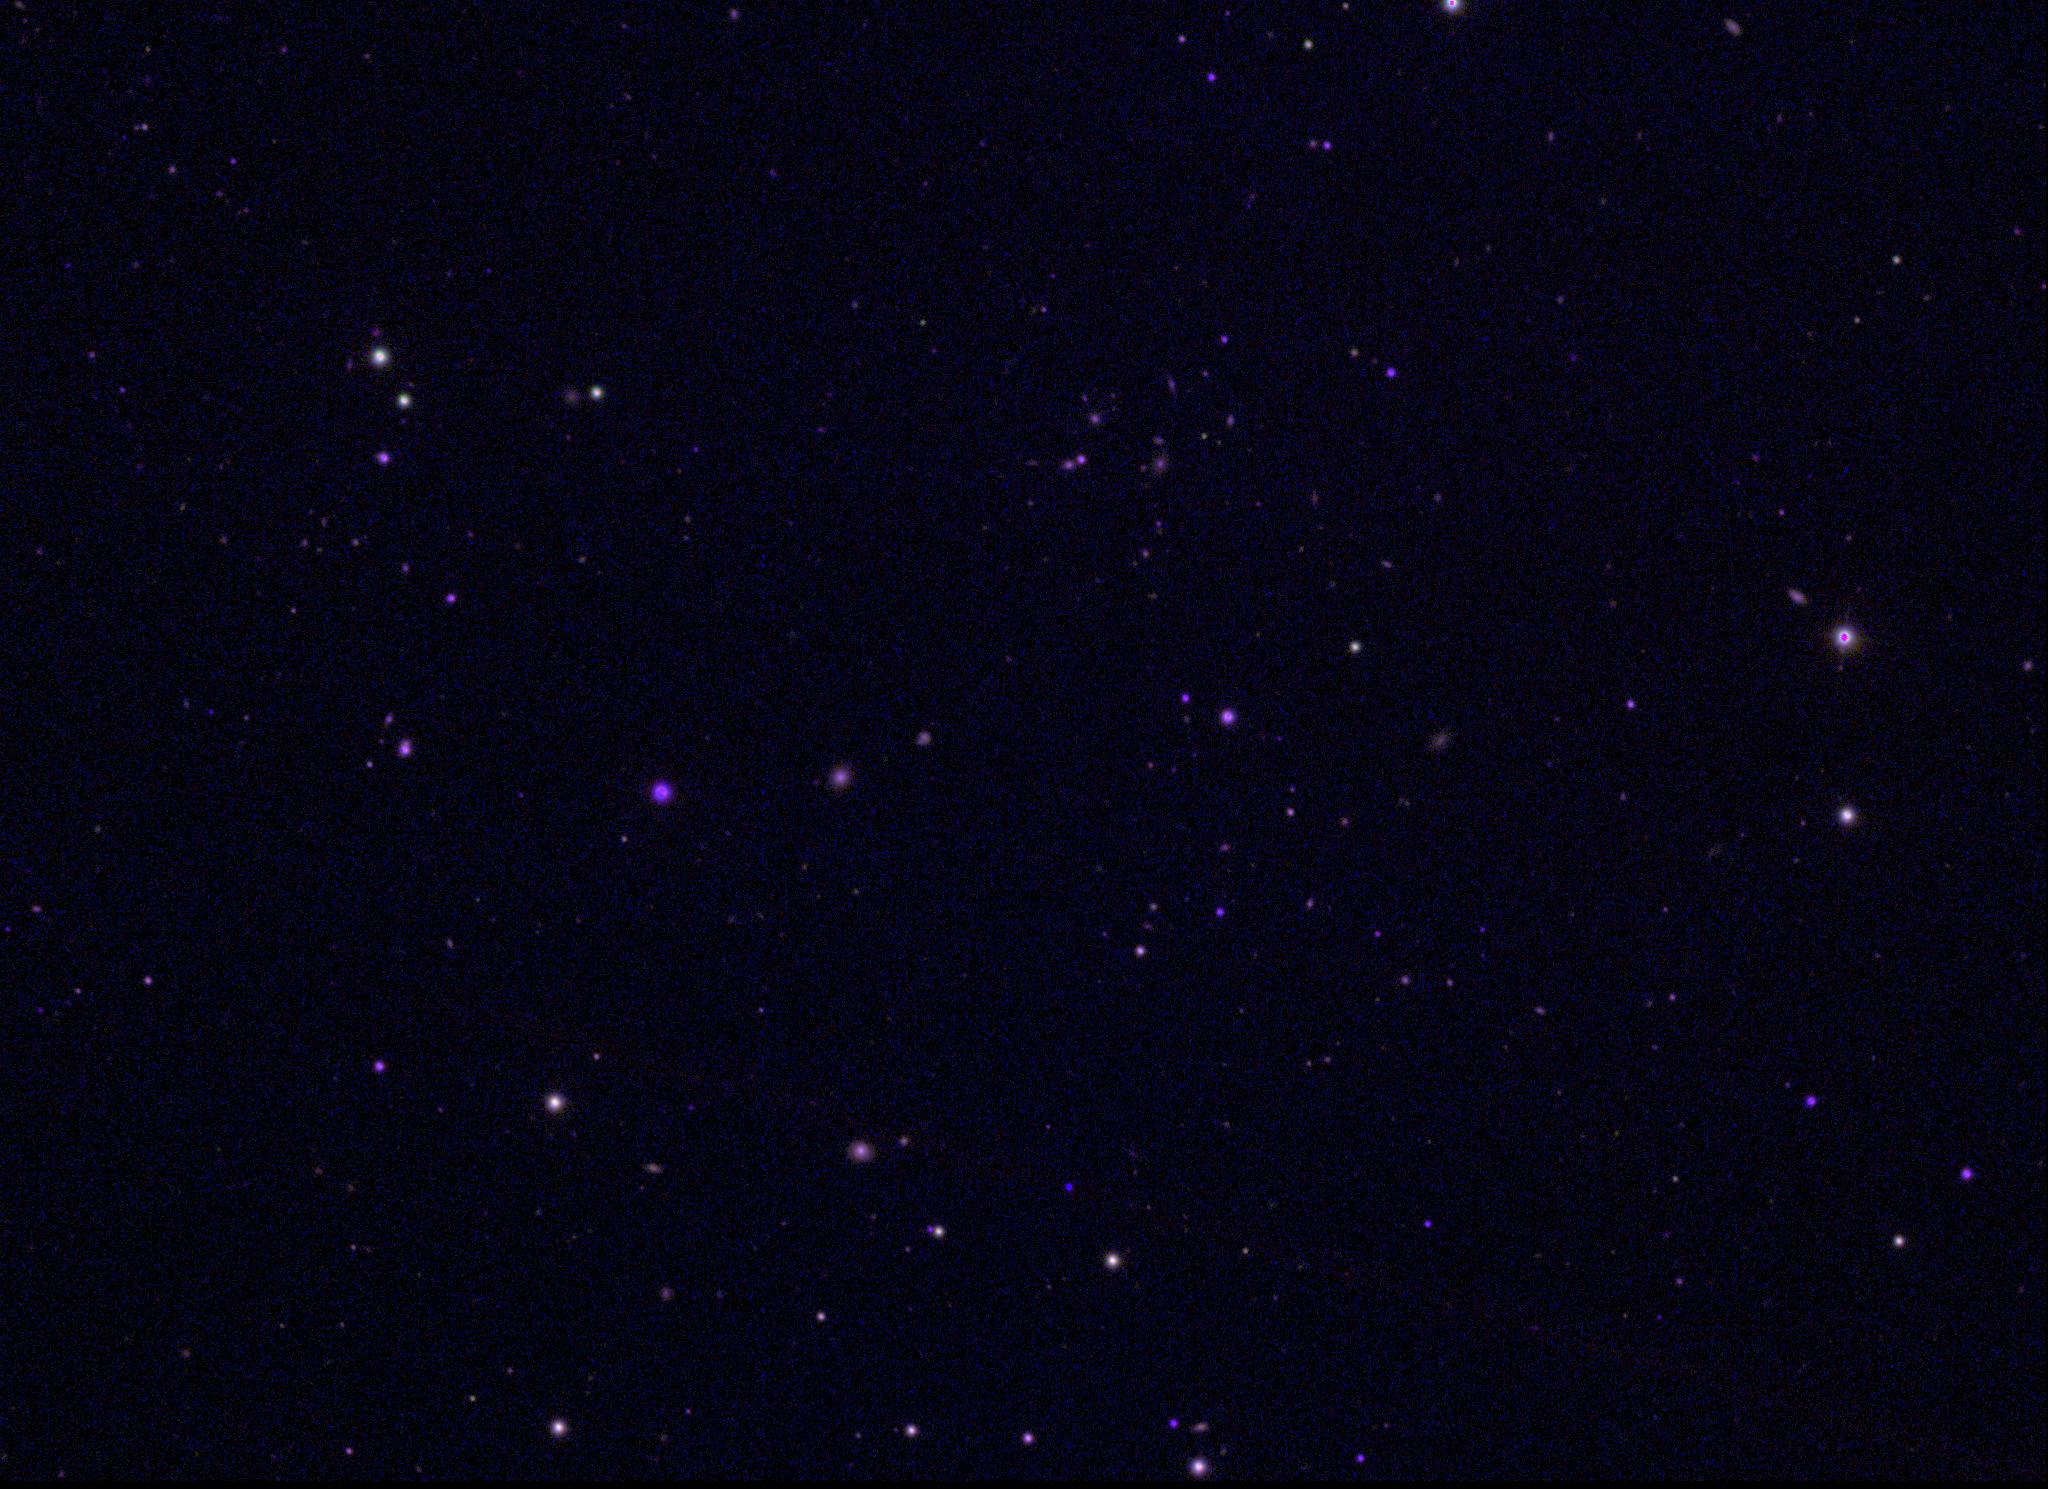L: (1062, 1176, 1076, 1188)
